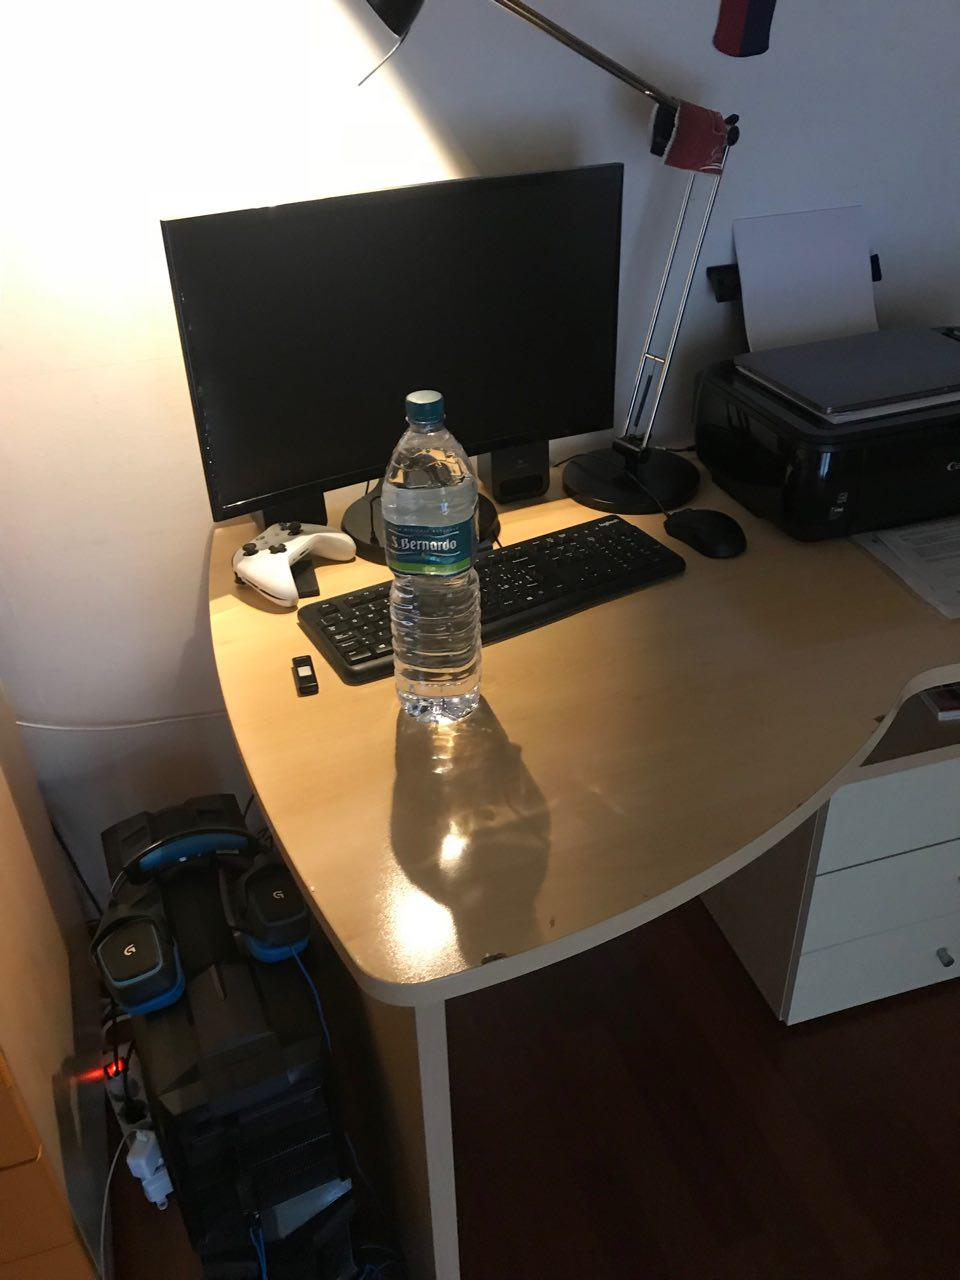san_bernardo: (380, 387, 485, 725)
